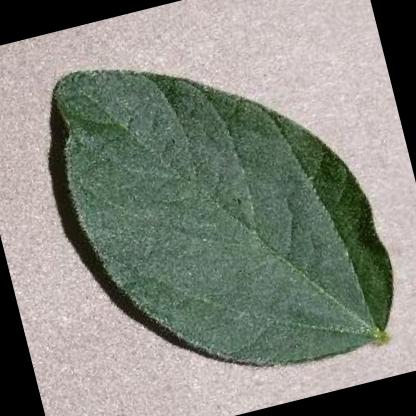soy: (15, 3, 416, 416)
